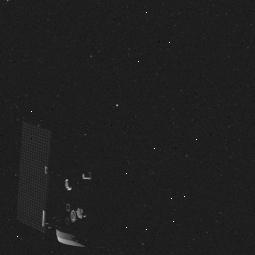proba_3_csc: (4, 110, 124, 245)
